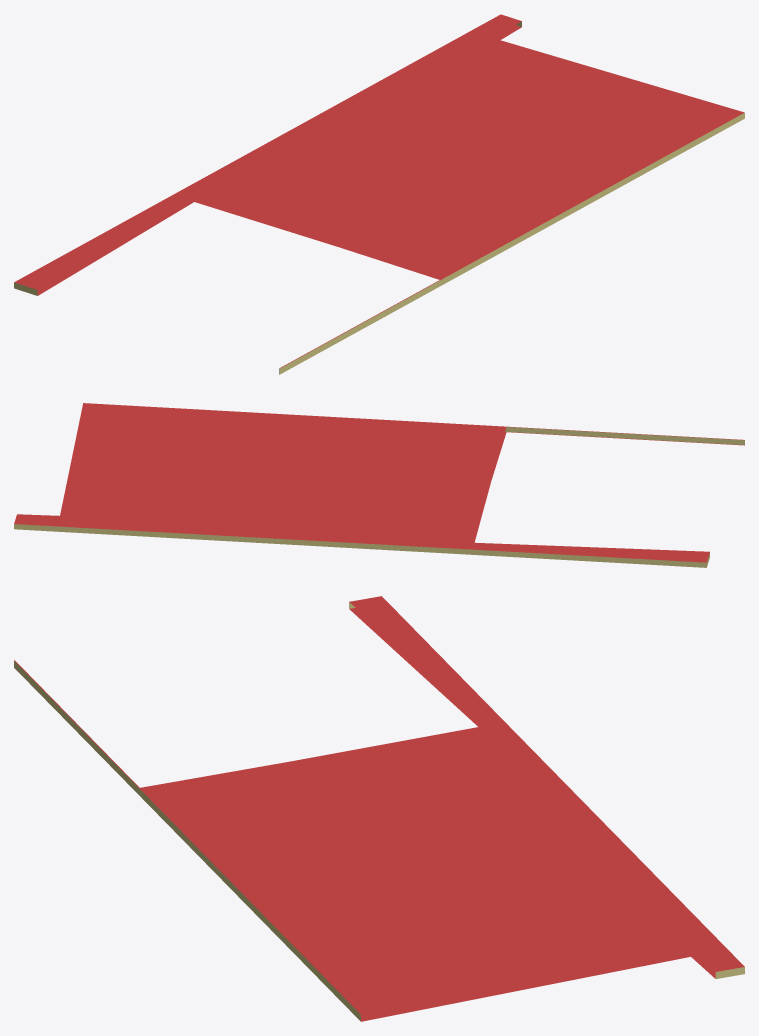
3 views of the same model, one above another, from view 1: azimuth 30°, elevation 25°; view 2: azimuth 150°, elevation 25°; view 3: azimuth 270°, elevation 25° (orthographic). The views are drawn at different scales.
Bounding box in the file's own units: 12.5 × 9.23 × 0.1.
